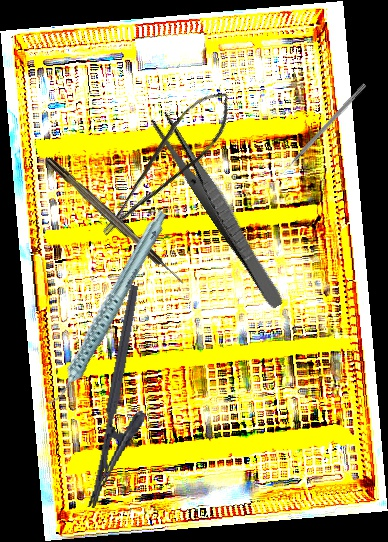Dressing Forceps: (148, 109, 291, 311)
Handpiece: (10, 208, 202, 408)
Hook Surgical: (44, 154, 188, 289), (275, 82, 368, 180)
Micro Scissor: (78, 81, 248, 241)
Needle Holder: (85, 284, 171, 515)
